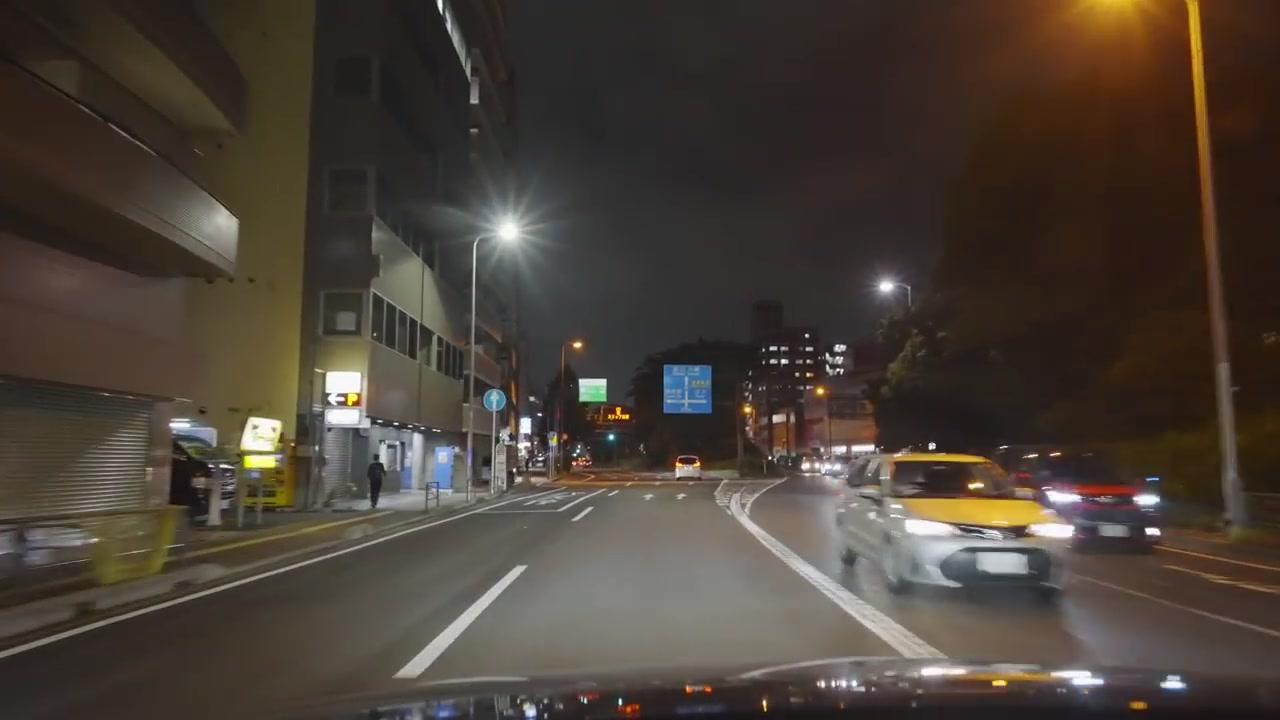car: (835, 449, 1075, 600), (996, 445, 1165, 554), (675, 455, 703, 480), (822, 461, 851, 480), (798, 456, 822, 475)
person: (366, 453, 386, 508)
